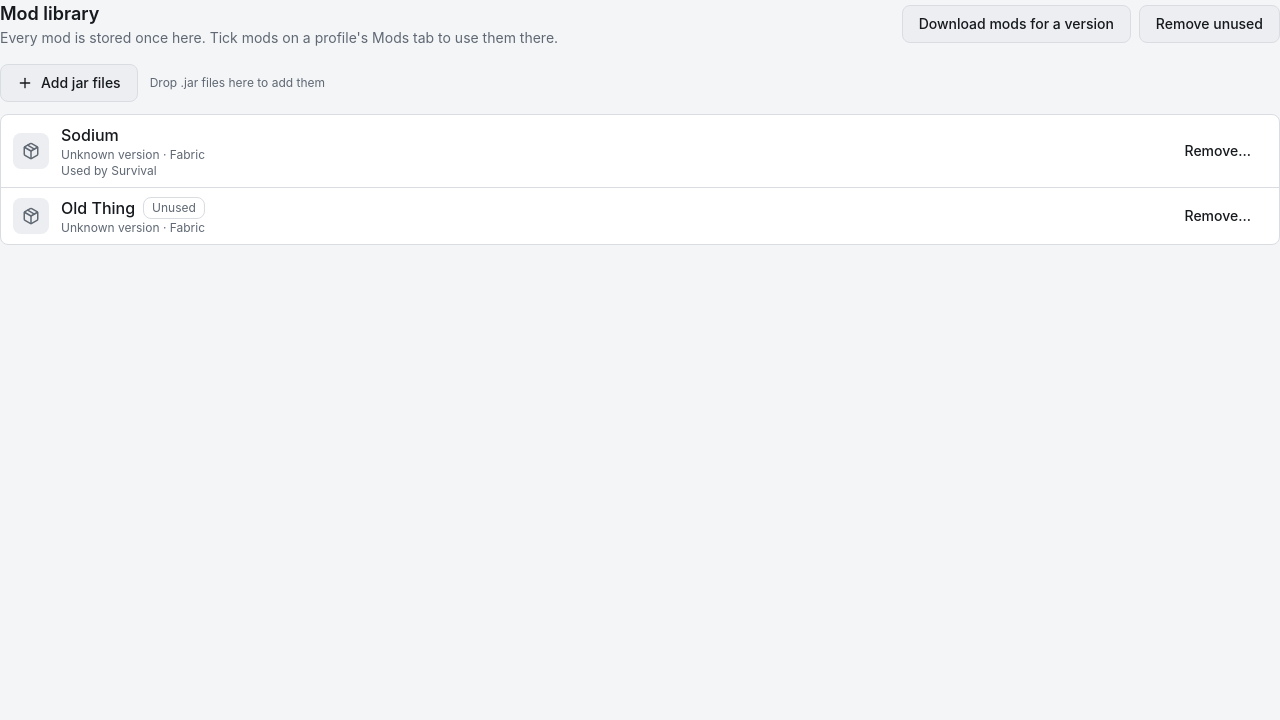
Test: ModLibraryPage › lists the profiles that lose a mod before removing it
Check: the text "Sodium" is shown, box [61,123,119,147]
Click the button "Remove…" in the row of "Sodium".
click(1218, 151)  # box [1168,133,1267,169]
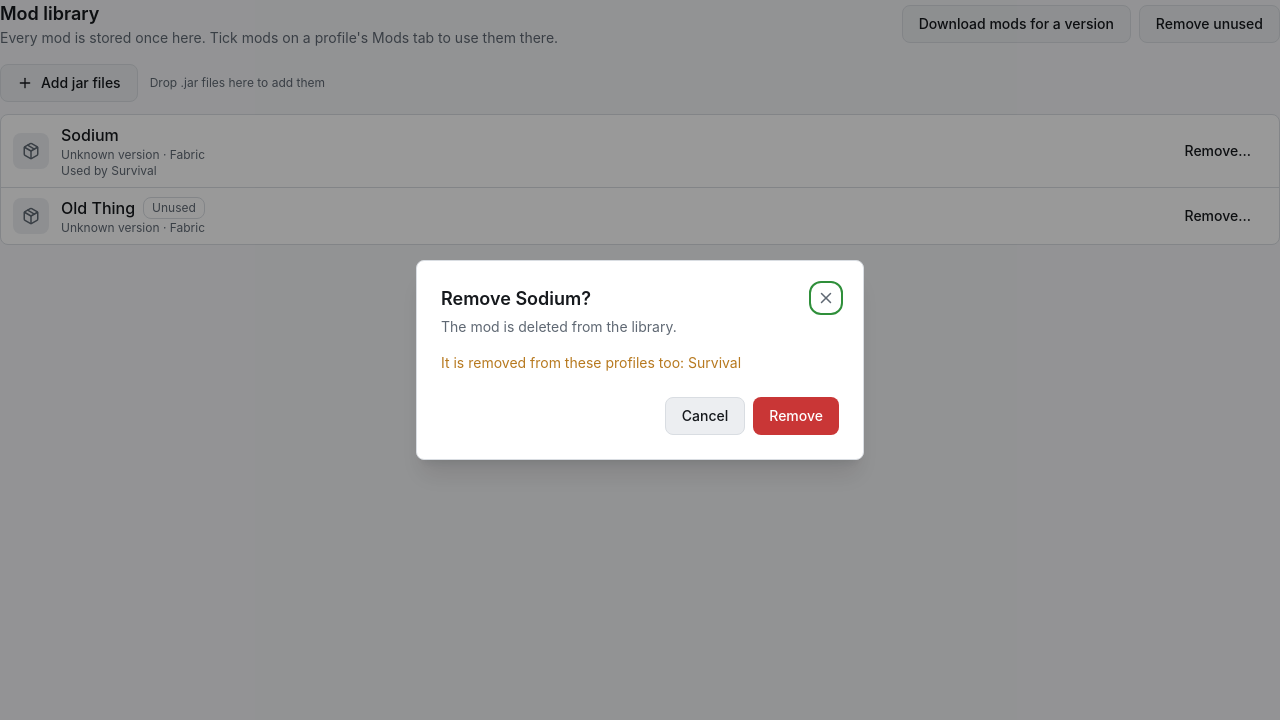
Check: the text "It is removed from these profiles too: Survival" is shown, box [441,354,741,371]
